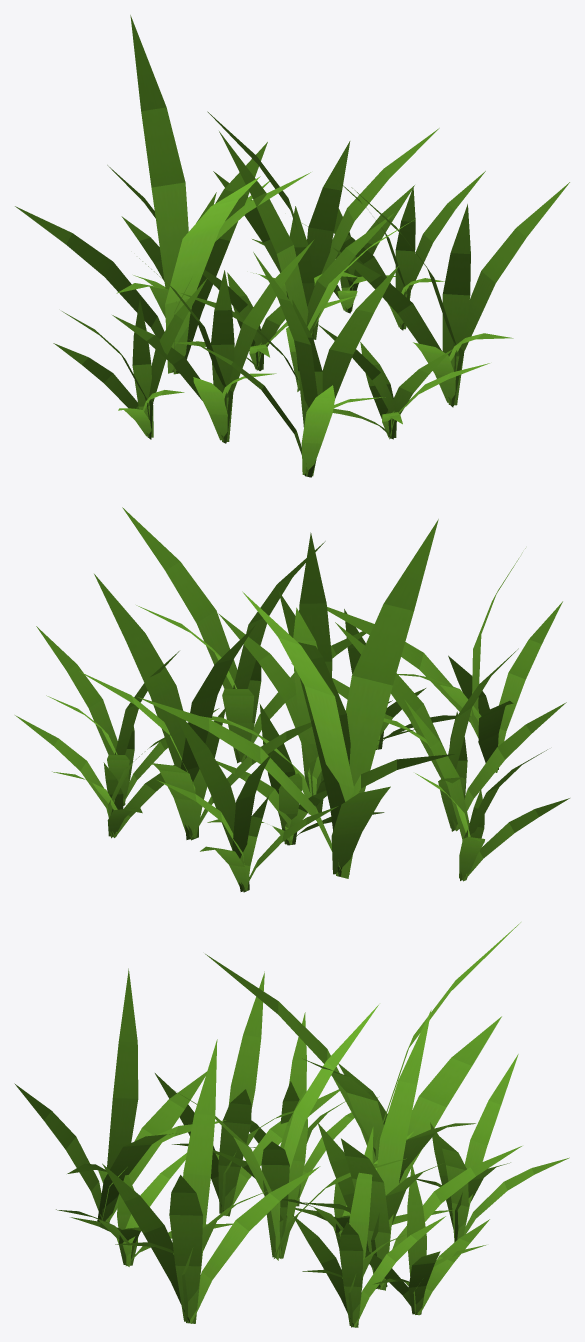
The model's file is is this the grass_.fbx.
The picture shows the model from 3 angles, top to bottom: view 1: azimuth 30°, elevation 25°; view 2: azimuth 150°, elevation 25°; view 3: azimuth 270°, elevation 25°; orthographic projection. The views are drawn at different scales.
Visible parts, largest first — view 1: c77e057a-b8d1-4dea-9701-b070bea557ed; view 2: c77e057a-b8d1-4dea-9701-b070bea557ed; view 3: c77e057a-b8d1-4dea-9701-b070bea557ed.
Part boxes in pixels (<box>): c77e057a-b8d1-4dea-9701-b070bea557ed: <box>15,15,569,477</box>; c77e057a-b8d1-4dea-9701-b070bea557ed: <box>15,507,569,892</box>; c77e057a-b8d1-4dea-9701-b070bea557ed: <box>14,922,569,1327</box>.
Bounding box in the file's own units: 181 × 123 × 188.
